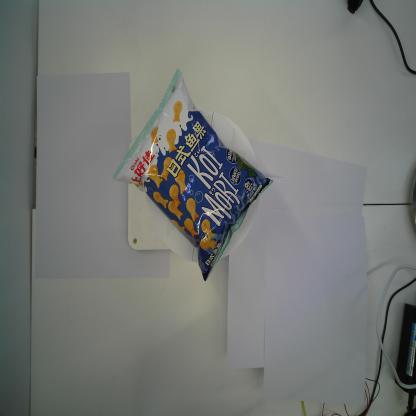Puffed Food: (112, 66, 275, 284)
